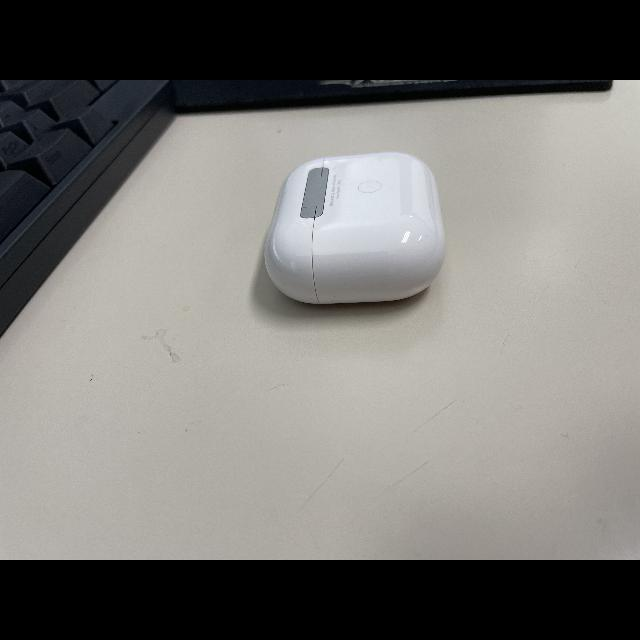airpod3: (262, 150, 448, 308)
